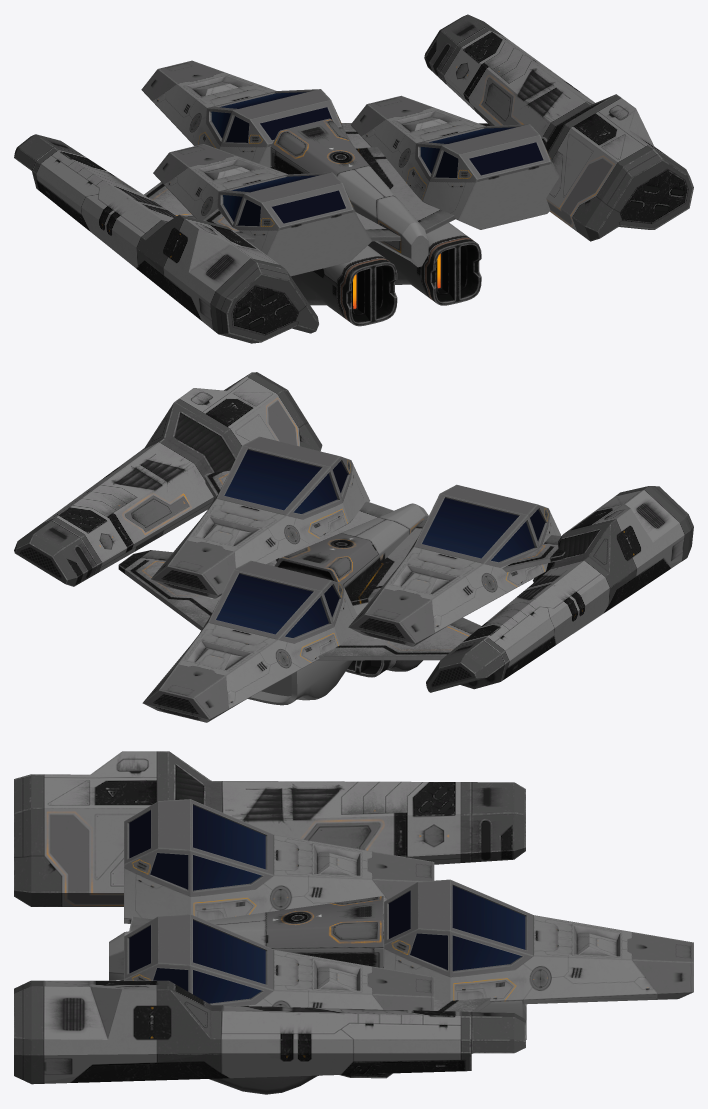
The model's file is commander1.gltf.
The picture shows the model from 3 angles, top to bottom: view 1: azimuth 30°, elevation 25°; view 2: azimuth 150°, elevation 25°; view 3: azimuth 270°, elevation 25°; orthographic projection. The views are drawn at different scales.
Visible parts, largest first — view 1: MainBody13_Mirrored, MainBody13, Cockpit3_WithoutInterior (1), Cockpit3_WithoutInterior (2), Cockpit3_WithoutInterior, MainBody2, Engine1 (3), Engine1 (2), Wing6_Mirrored (1), Wing6 (1), Wing6; view 2: MainBody13_Mirrored, MainBody13, Cockpit3_WithoutInterior, Cockpit3_WithoutInterior (1), Cockpit3_WithoutInterior (2), MainBody2, Wing6, Wing6_Mirrored, Engine1, Wing6 (1), Wing6_Mirrored (1), Engine1 (3); view 3: MainBody13, MainBody13_Mirrored, Cockpit3_WithoutInterior, Cockpit3_WithoutInterior (2), Cockpit3_WithoutInterior (1), MainBody2, Engine1 (2), Wing6_Mirrored, Engine1.
Boxes of the visible parts, bbox=[...] form: MainBody13_Mirrored: bbox=[424, 14, 693, 241]; MainBody13: bbox=[14, 134, 318, 343]; Cockpit3_WithoutInterior (1): bbox=[350, 95, 559, 229]; Cockpit3_WithoutInterior (2): bbox=[153, 144, 372, 276]; Cockpit3_WithoutInterior: bbox=[141, 60, 352, 167]; MainBody2: bbox=[270, 118, 428, 267]; Engine1 (3): bbox=[291, 245, 397, 326]; Engine1 (2): bbox=[368, 223, 481, 305]; Wing6_Mirrored (1): bbox=[356, 137, 547, 233]; Wing6 (1): bbox=[203, 166, 400, 243]; Wing6: bbox=[144, 182, 195, 218]; MainBody13_Mirrored: bbox=[14, 372, 322, 586]; MainBody13: bbox=[426, 486, 693, 692]; Cockpit3_WithoutInterior: bbox=[142, 560, 357, 722]; Cockpit3_WithoutInterior (1): bbox=[151, 436, 369, 598]; Cockpit3_WithoutInterior (2): bbox=[348, 484, 561, 646]; MainBody2: bbox=[274, 503, 428, 596]; Wing6: bbox=[317, 614, 481, 660]; Wing6_Mirrored: bbox=[118, 550, 220, 630]; Engine1: bbox=[247, 602, 368, 705]; Wing6 (1): bbox=[348, 519, 565, 605]; Wing6_Mirrored (1): bbox=[204, 470, 393, 565]; Engine1 (3): bbox=[346, 660, 422, 677]; MainBody13: bbox=[14, 751, 525, 906]; MainBody13_Mirrored: bbox=[14, 980, 525, 1084]; Cockpit3_WithoutInterior: bbox=[384, 879, 693, 1004]; Cockpit3_WithoutInterior (2): bbox=[124, 799, 434, 923]; Cockpit3_WithoutInterior (1): bbox=[124, 914, 434, 1010]; MainBody2: bbox=[109, 896, 383, 980]; Engine1 (2): bbox=[209, 1075, 318, 1094]; Wing6_Mirrored: bbox=[340, 997, 491, 1078]; Engine1: bbox=[383, 939, 526, 1053].
Bounding box in the file's own units: 12.16 × 4.15 × 12.64.
7 materials, 6 textured.
